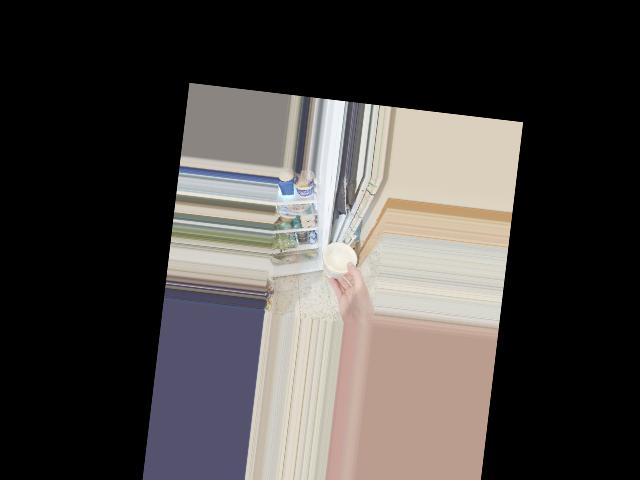cotage: (321, 236, 355, 276)
